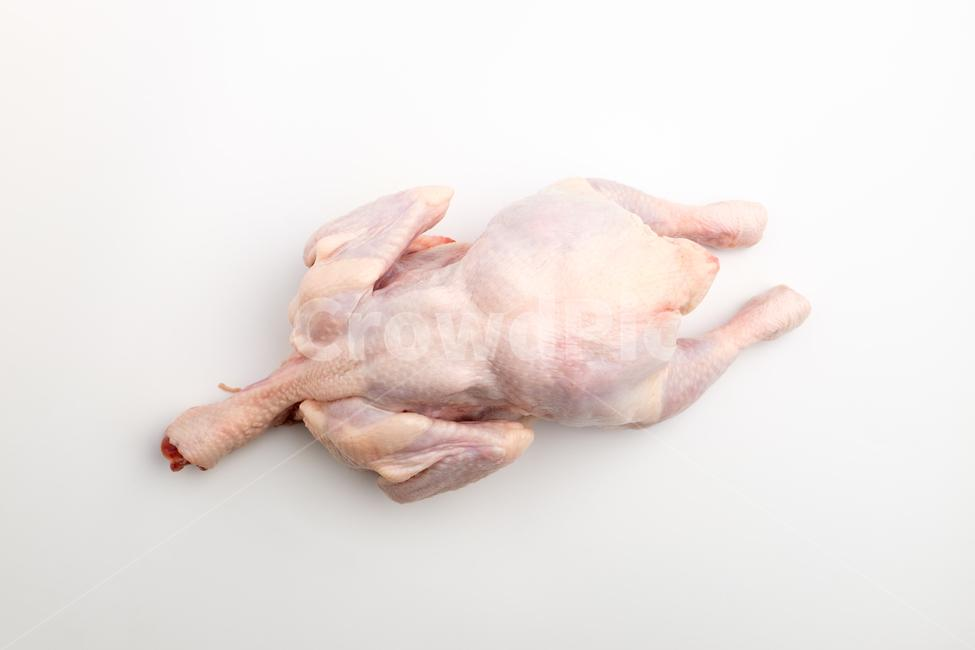chicken: (243, 177, 975, 507)
